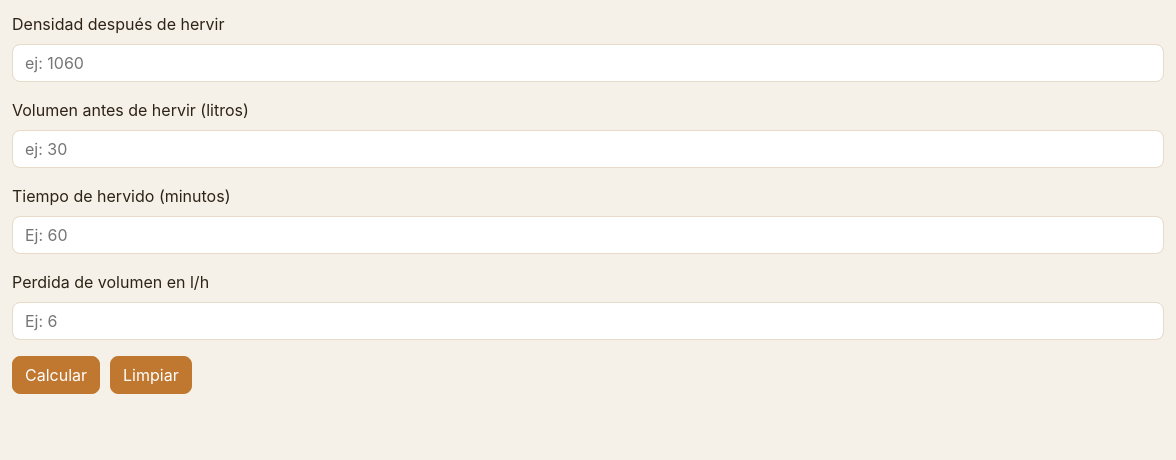
Test case: InitialDensity › muestra resultado con los cuatro campos completos
The width and height of the screenshot is (1176, 460).
Step 1. Type "1060" into the field with placeholder "ej: 1060" → (588, 63), box [12,44,1164,82]
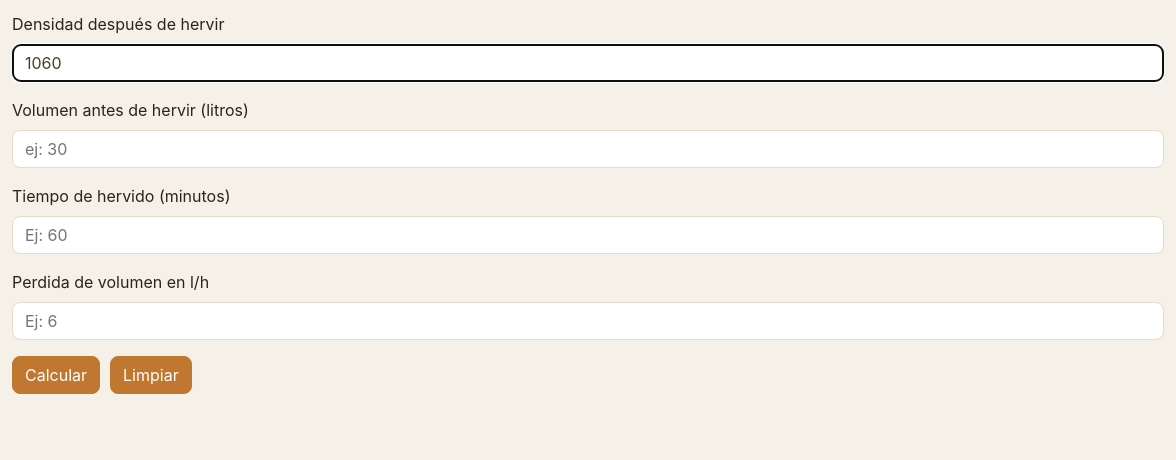
Step 2. Type "25" into the field with placeholder "ej: 30" → (588, 149), box [12,130,1164,168]
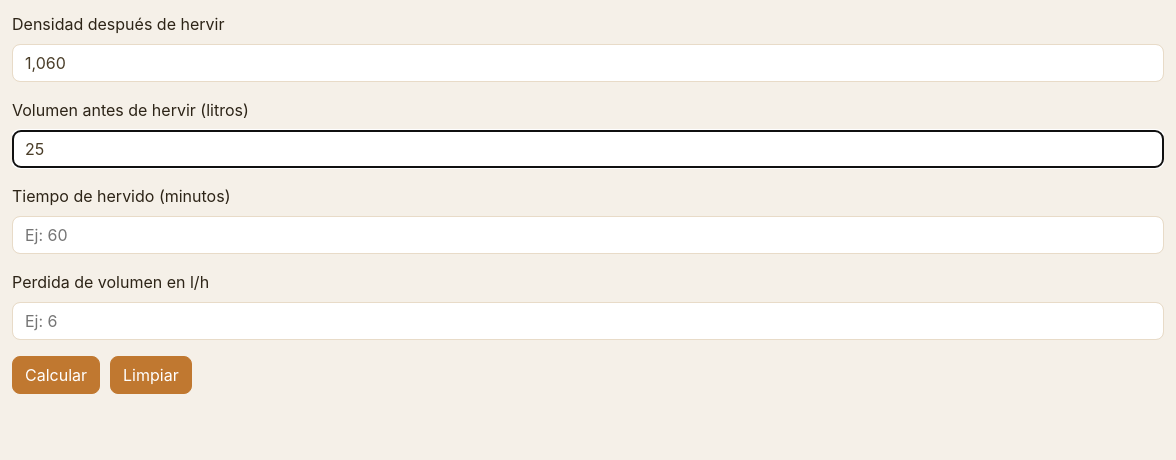
Step 3. Type "60" into the field with placeholder "Ej: 60" → (588, 235), box [12,216,1164,254]
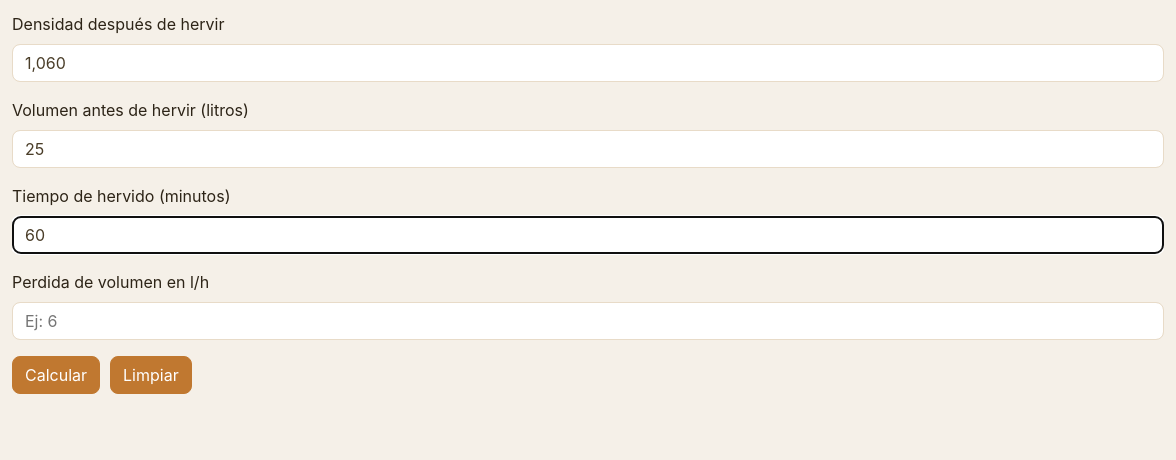
Step 4. Type "6" into the field with placeholder "Ej: 6" → (588, 321), box [12,302,1164,340]
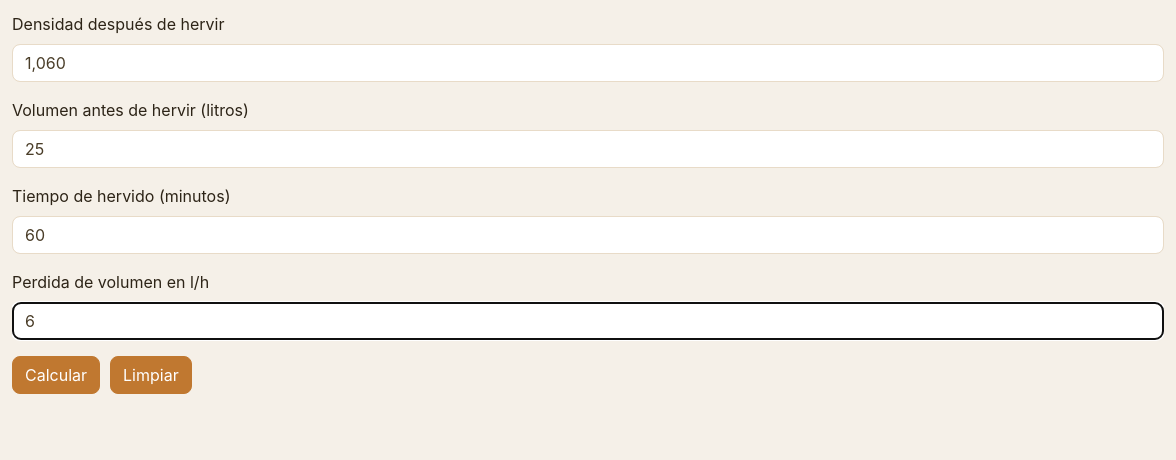
Step 5. Click the button "Calcular" → (56, 375), box [12,356,100,394]
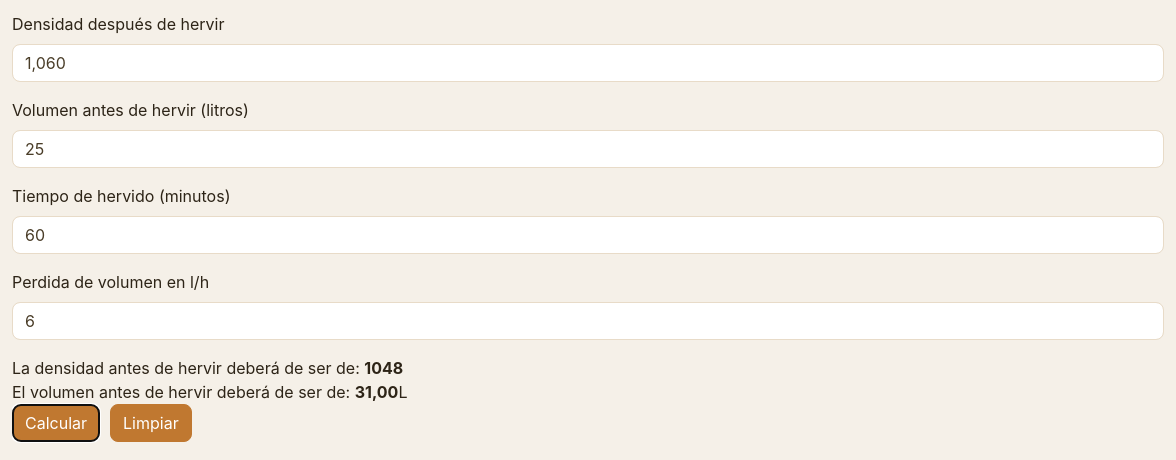
Result: the text "La densidad antes de hervir deberá de ser de: 1048" is shown at [12,358,403,378]
